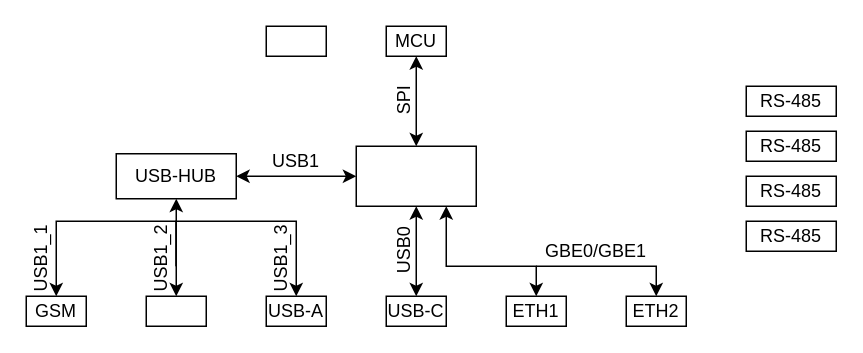
Some shapes in this 863 by 353 pixel diagram are drawn without their labels. Each missing label, with the box of its shape:
GNSS: (265, 25, 326, 56)
SOM: (355, 145, 476, 206)
СКЗИ: (145, 295, 206, 326)
